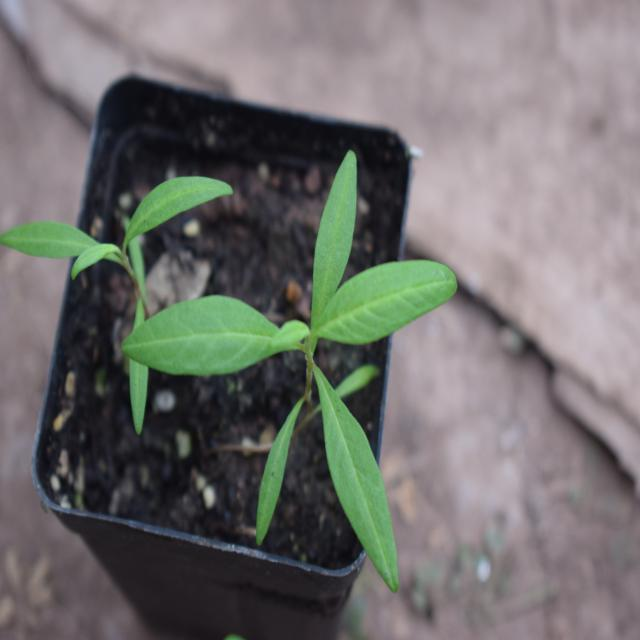white_smart_weed: (144, 162, 480, 592), (3, 168, 233, 426)
